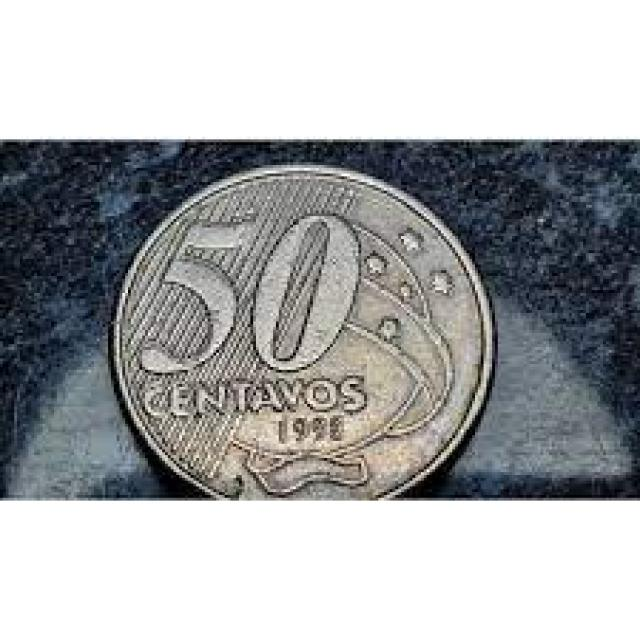50 cent: (114, 162, 494, 498)
